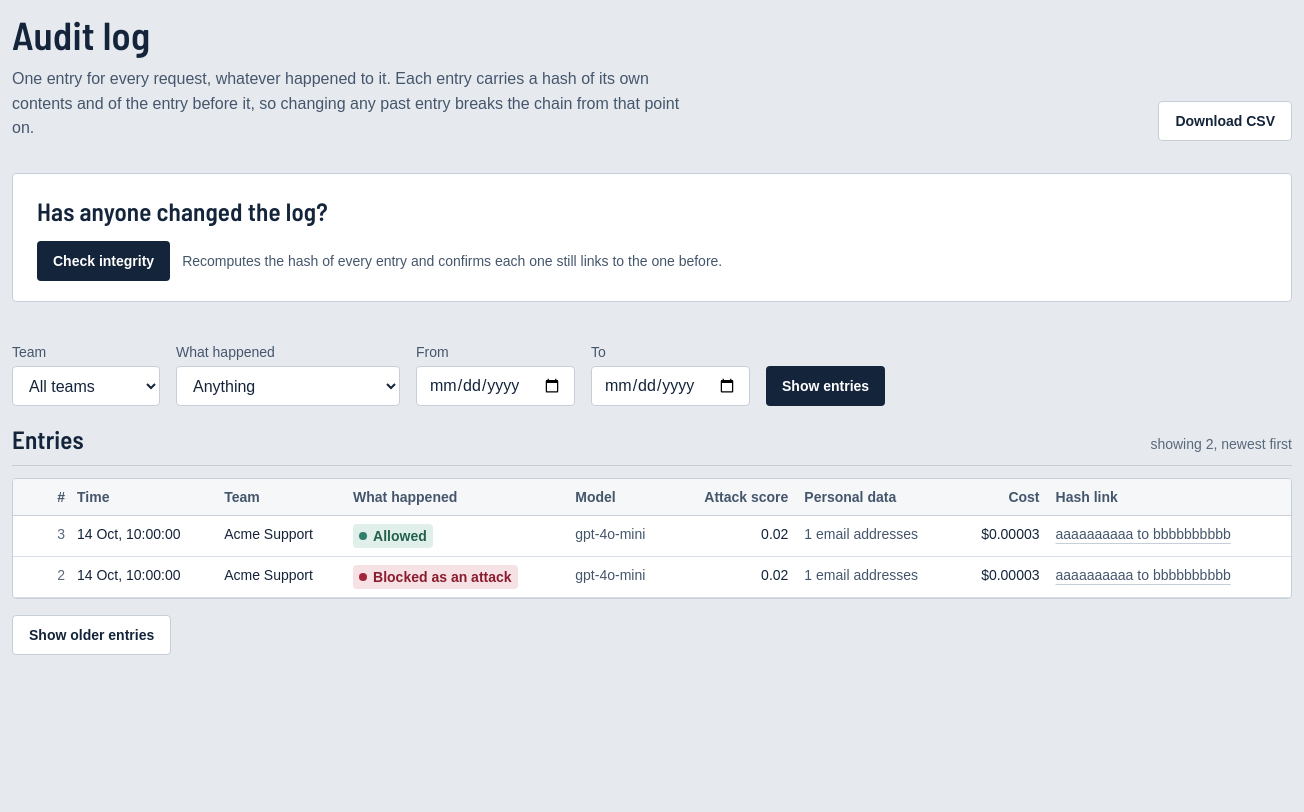
Test case: Audit log › verifies the chain and reports it intact
Click the button "Check integrity": {"x": 104, "y": 261} [37, 241, 170, 281]
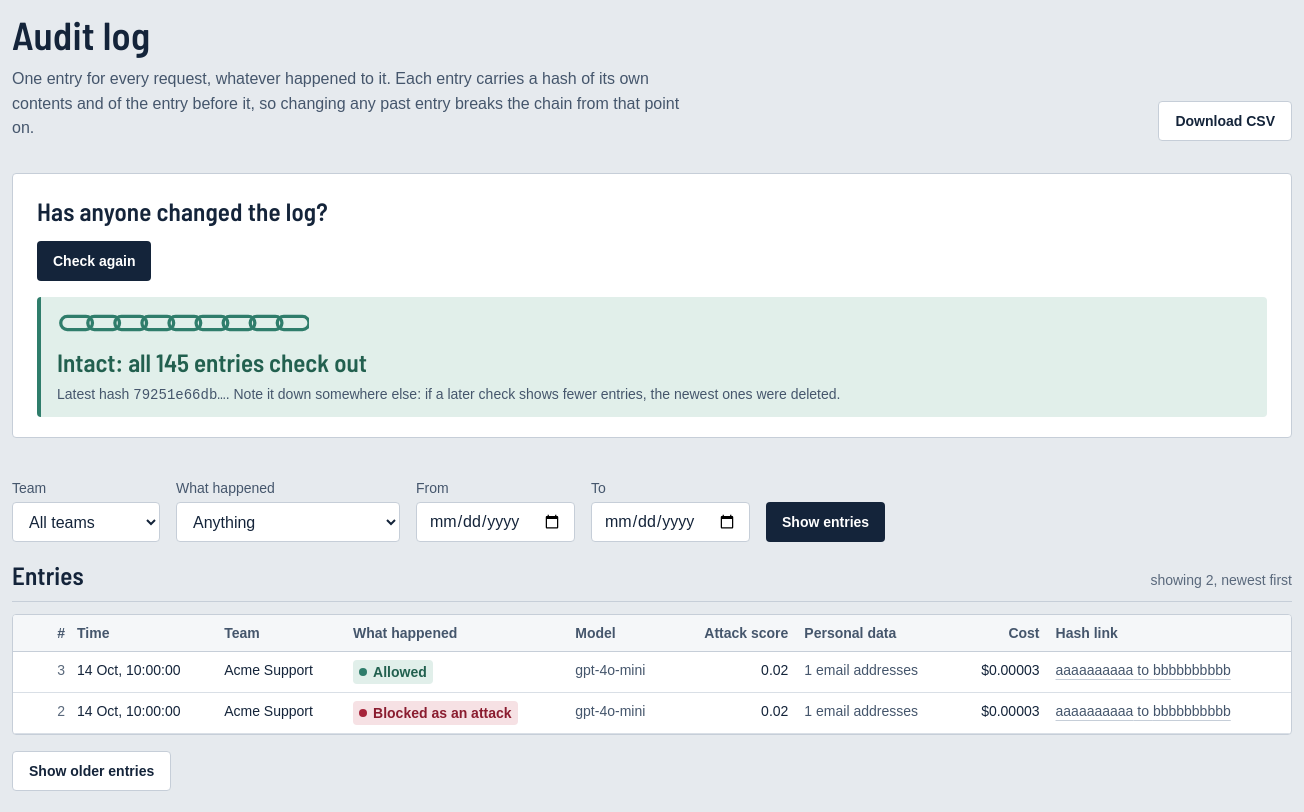
Now the message shows "Intact: all 145 entries check out", box [37, 297, 1267, 417]
